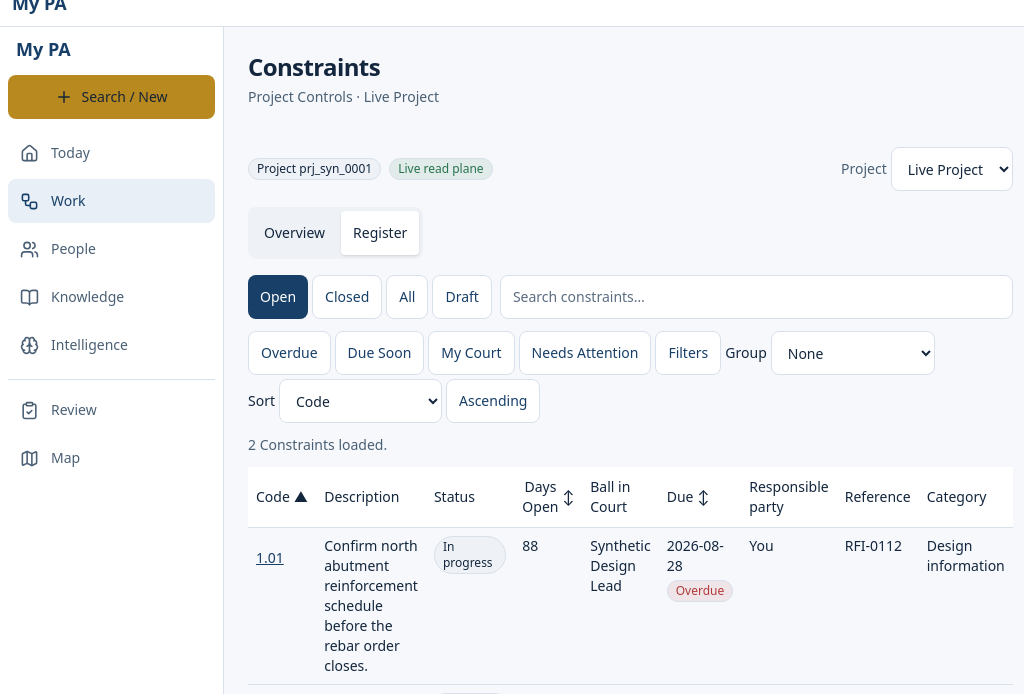
Scenario: the live read-only workspace › clears a continuation failure while retrying and appends the successful retry once
Click the button "1.01". click: (270, 558)
box: x1=256 y1=536 x2=284 y2=580
(page scrolled)
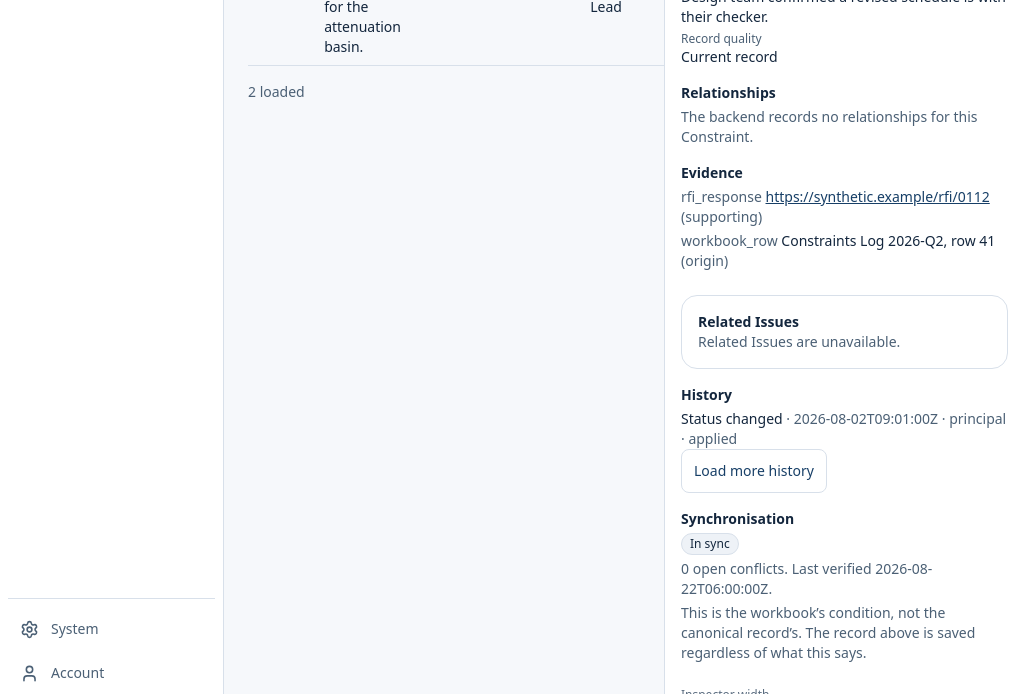
Click the button with test id "inspector-history-more". click: (754, 471)
box: x1=681 y1=449 x2=827 y2=493
(page scrolled)
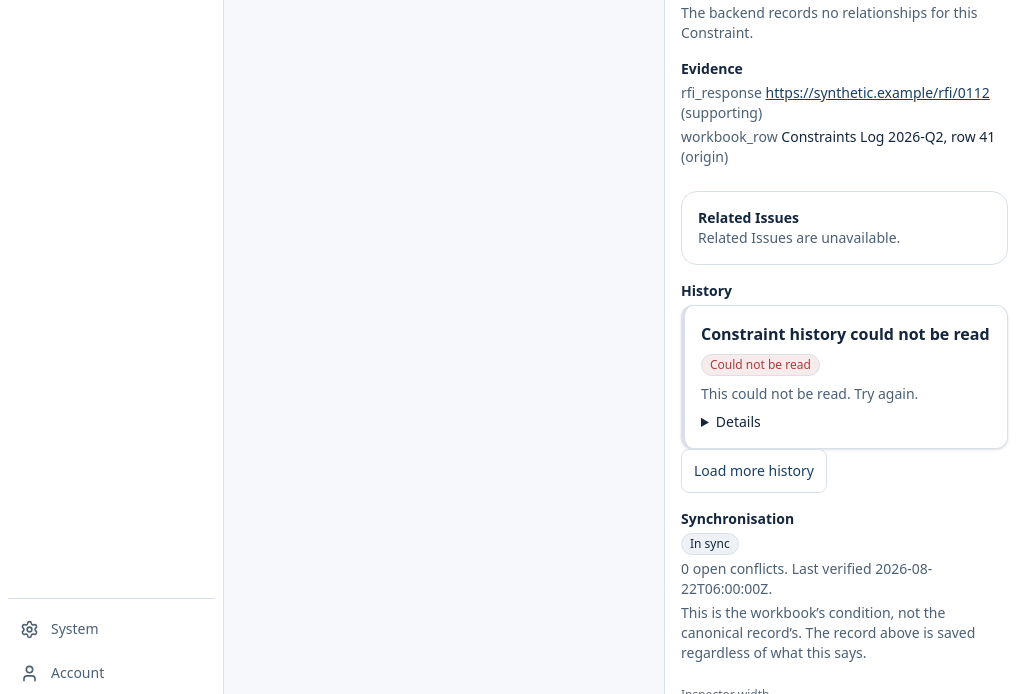
Expected: the message with test id "inspector-history-unavailable" does not show "History continuation failed.", x1=681 y1=305 x2=1008 y2=449
Click the button with test id "inspector-history-more". click: (754, 471)
box: x1=681 y1=449 x2=827 y2=493
(page scrolled)
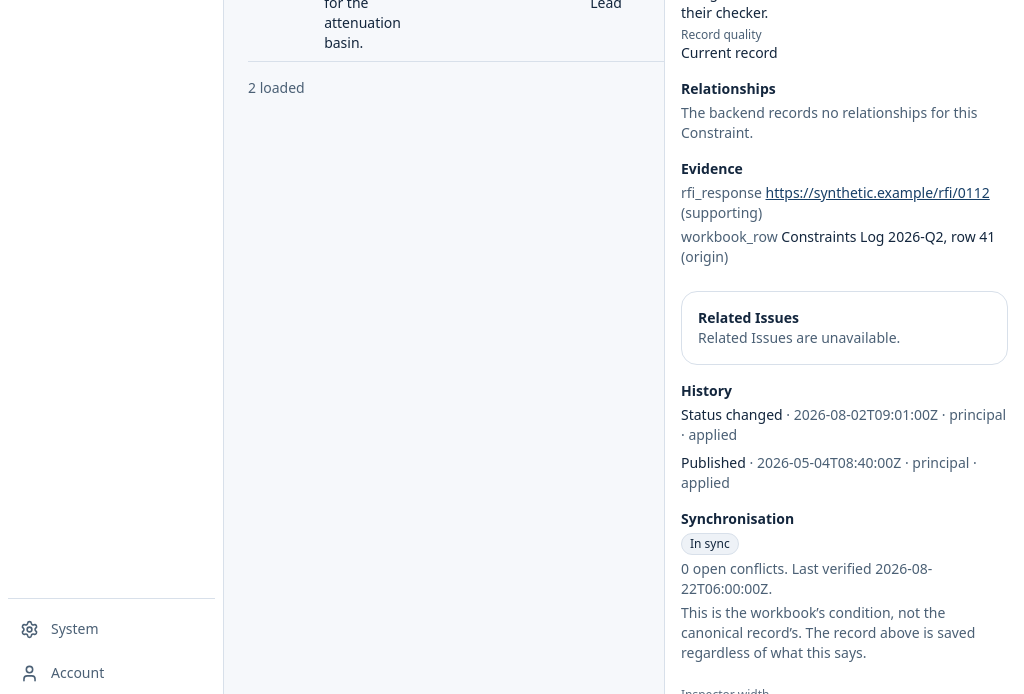
Expected: the message with test id "inspector-history-unavailable" is gone
Expected: the list item with test id "inspector-history-hst_retry_second" is shown, x1=681 y1=453 x2=1008 y2=493
